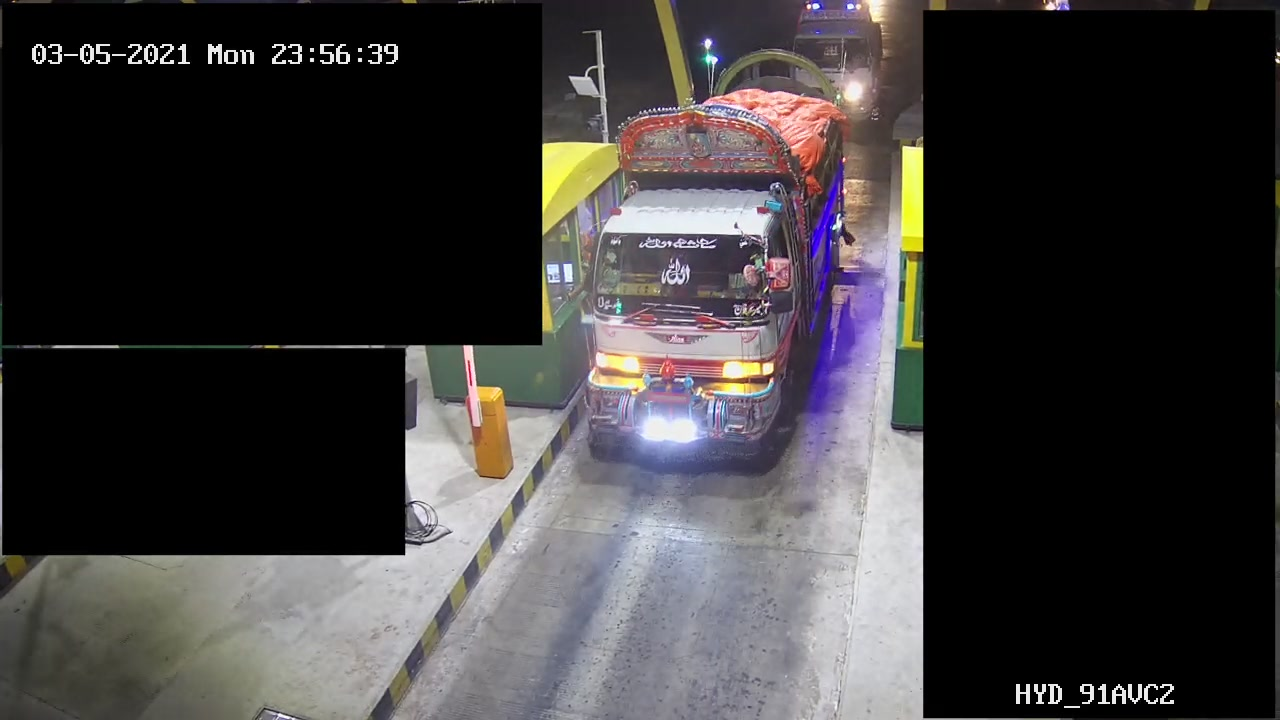F5: (584, 48, 839, 472)
